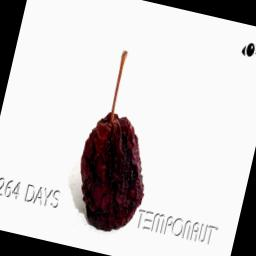Apple Rotten: (52, 8, 201, 244)
